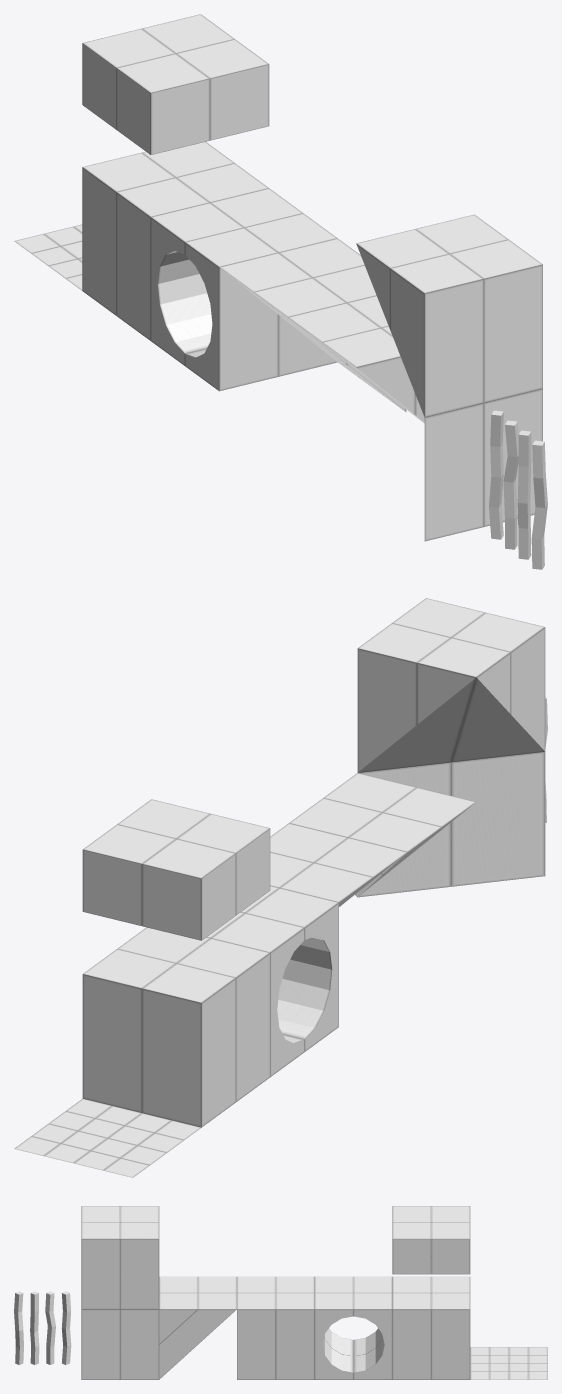
Rendered from Models.fbx.
The picture shows the model from 3 angles, top to bottom: view 1: azimuth 30°, elevation 25°; view 2: azimuth 150°, elevation 25°; view 3: azimuth 270°, elevation 25°; orthographic projection. The views are drawn at different scales.
Visible parts, largest first — view 1: Slop_EdgeOut, PortHole, Wall_Slab, Wall, Slop_Vertical, Slope, Bars, Slope_EdgeIn, Floor; view 2: Wall, Slop_EdgeOut, Wall_Slab, Slop_Vertical, PortHole, Slope_EdgeIn, Floor, Slope; view 3: Slop_EdgeOut, Wall, Slope, PortHole, Slop_Vertical, Wall_Slab, Slope_EdgeIn, Bars, Floor.
Boxes of the visible parts, bbox=[...] form: Slop_EdgeOut: bbox=[356, 214, 542, 417]; PortHole: bbox=[151, 188, 337, 391]; Wall_Slab: bbox=[82, 14, 269, 154]; Wall: bbox=[82, 142, 268, 340]; Slop_Vertical: bbox=[424, 388, 542, 541]; Slope: bbox=[219, 238, 406, 411]; Bars: bbox=[489, 410, 547, 569]; Slope_EdgeIn: bbox=[288, 295, 424, 423]; Floor: bbox=[14, 224, 82, 290]; Wall: bbox=[82, 927, 270, 1127]; Slop_EdgeOut: bbox=[357, 598, 545, 772]; Wall_Slab: bbox=[82, 799, 270, 940]; Slop_Vertical: bbox=[358, 751, 545, 897]; PortHole: bbox=[207, 886, 338, 1076]; Slope_EdgeIn: bbox=[289, 773, 475, 897]; Floor: bbox=[14, 1098, 200, 1177]; Slope: bbox=[270, 823, 407, 906]; Slop_EdgeOut: bbox=[81, 1206, 159, 1309]; Wall: bbox=[392, 1276, 470, 1379]; Slope: bbox=[237, 1276, 314, 1379]; PortHole: bbox=[314, 1276, 392, 1379]; Slop_Vertical: bbox=[81, 1309, 159, 1379]; Wall_Slab: bbox=[392, 1206, 470, 1274]; Slope_EdgeIn: bbox=[159, 1276, 236, 1379]; Bars: bbox=[14, 1291, 71, 1364]; Floor: bbox=[470, 1347, 547, 1379].
Bounding box in the file's own units: 100 × 200 × 687.
